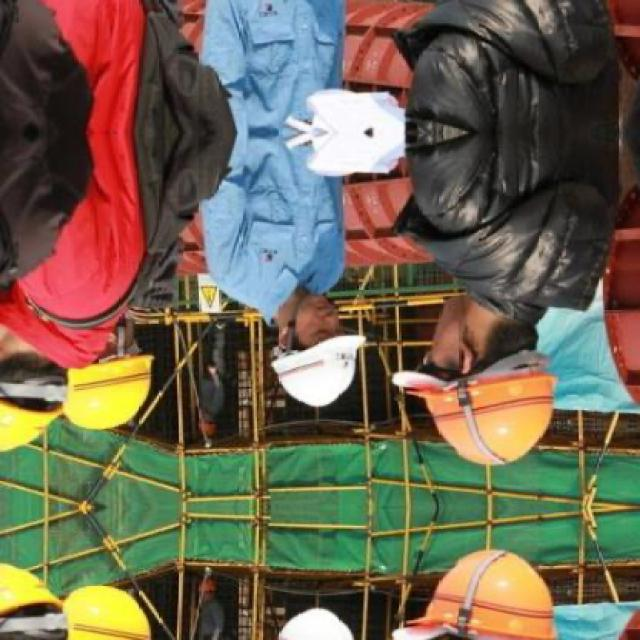con casco: (340, 214, 560, 474), (222, 235, 401, 425), (22, 321, 176, 464), (0, 277, 90, 487)
